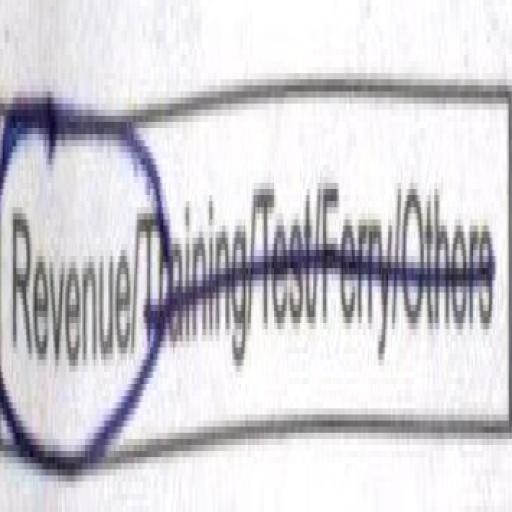check: (0, 35, 140, 504)
